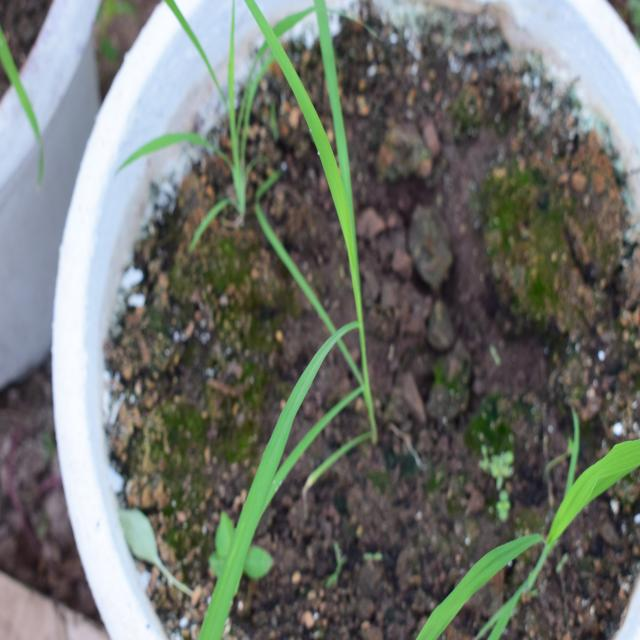barnyard_grass: (208, 2, 382, 616)
